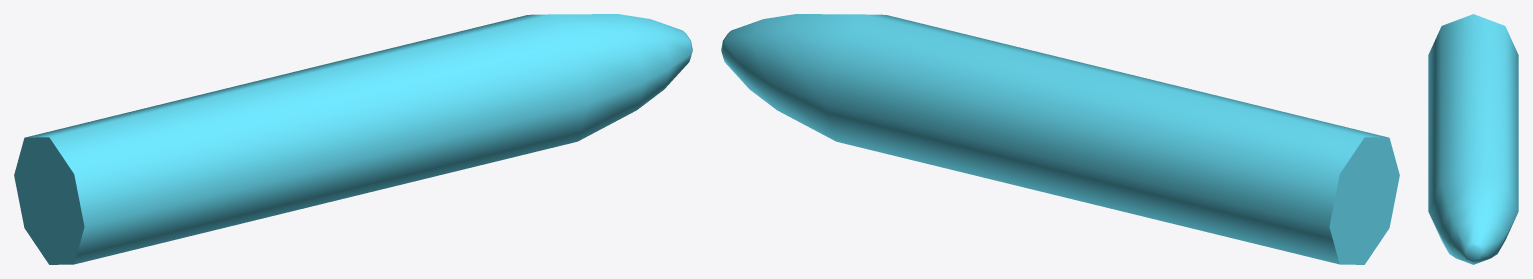
Rendered from Bullet Blue.fbx.
3 views of the same model, side by side, from view 1: azimuth 30°, elevation 25°; view 2: azimuth 150°, elevation 25°; view 3: azimuth 270°, elevation 25° (orthographic). The views are drawn at different scales.
Parts seen in each view (by area): view 1: Boolet; view 2: Boolet; view 3: Boolet.
Boxes of the visible parts, x1,y1,x2,y2 form: Boolet: [14, 14, 692, 264]; Boolet: [721, 14, 1399, 264]; Boolet: [1428, 14, 1518, 264].
Size of the model in its own units: 0.2611 by 0.05 by 0.05.
